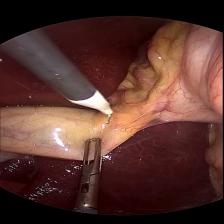Grasper: (70, 137, 112, 207)
Hook: (66, 85, 114, 124)
